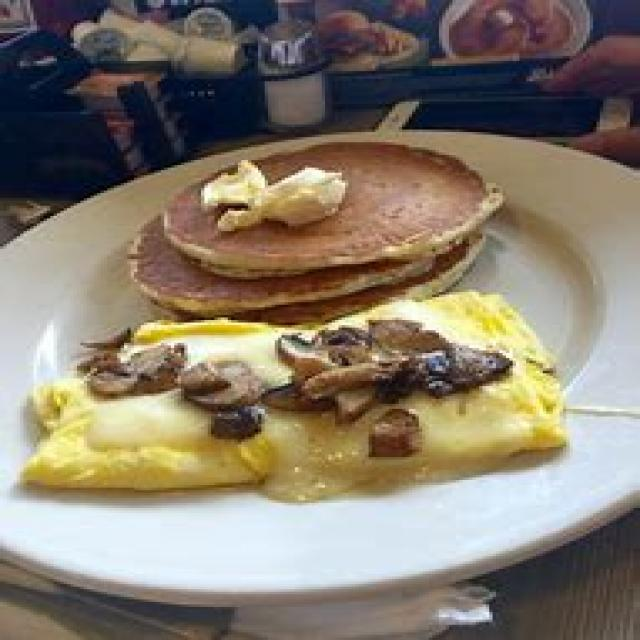Omelette: (17, 300, 576, 490)
Pancakes: (110, 134, 512, 304)
